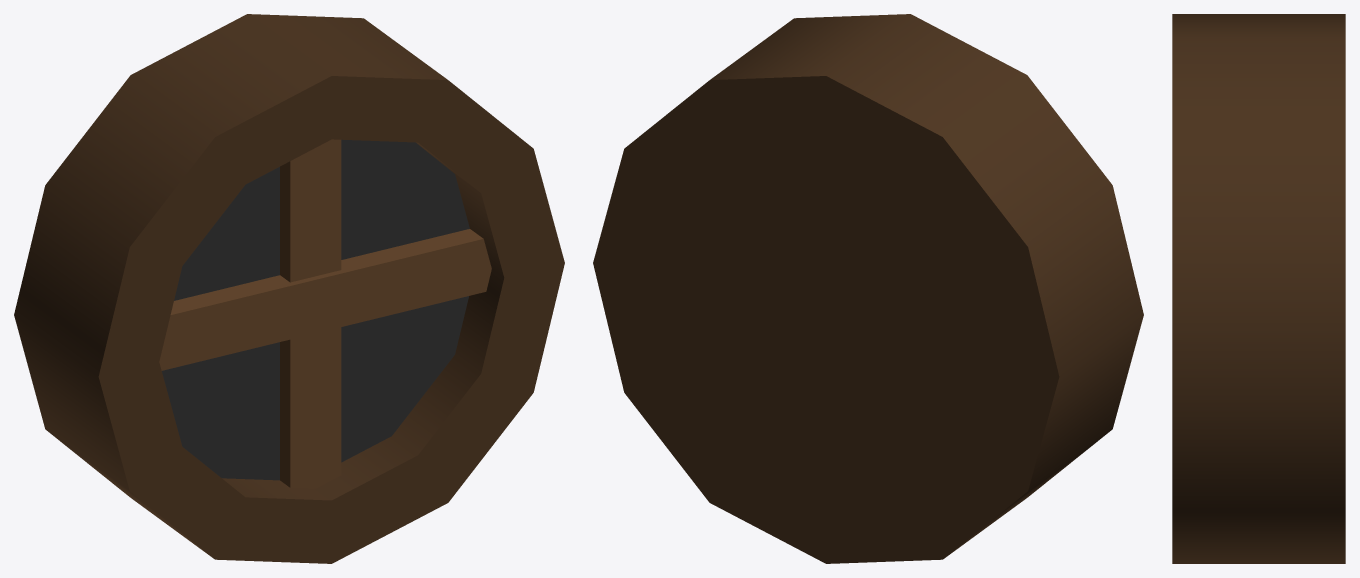
The model's file is Window_1.gltf.
3 views of the same model, side by side, from view 1: azimuth 30°, elevation 25°; view 2: azimuth 150°, elevation 25°; view 3: azimuth 270°, elevation 25° (orthographic). The views are drawn at different scales.
Visible parts, largest first — view 1: Window_1; view 2: Window_1; view 3: Window_1.
Part boxes in pixels (bbox=[...]): Window_1: bbox=[14, 14, 564, 563]; Window_1: bbox=[593, 14, 1143, 563]; Window_1: bbox=[1172, 14, 1345, 563].
Size of the model in its own units: 0.3797 by 0.3797 by 0.1193.
